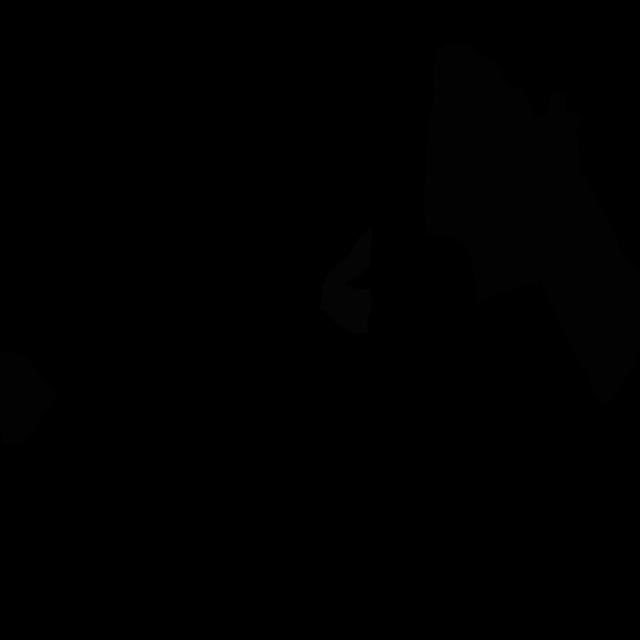cardboard: (423, 41, 592, 303), (541, 174, 640, 406), (0, 351, 57, 447)
soft_plastic: (319, 228, 372, 335)
